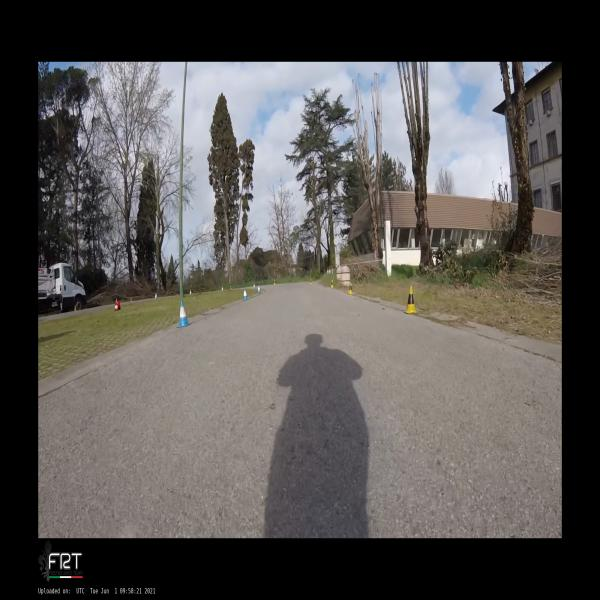blue_cone: (176, 299, 190, 328), (242, 289, 248, 300), (257, 284, 261, 294), (155, 292, 157, 300), (190, 289, 192, 295), (253, 283, 255, 288), (222, 287, 224, 291)
orange_cone: (114, 301, 121, 311)
unknown_cone: (74, 304, 76, 312)
yellow_cone: (404, 286, 418, 314), (348, 282, 353, 295), (331, 279, 334, 288), (310, 278, 312, 285), (274, 279, 276, 285), (230, 285, 232, 290)
